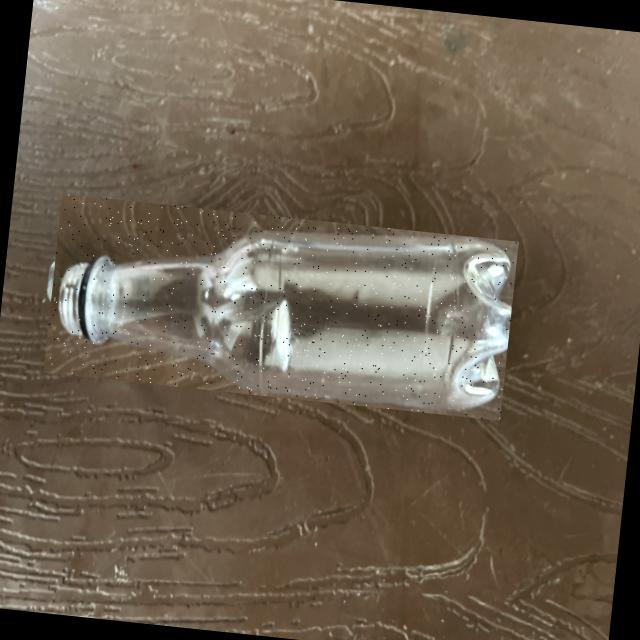PET_With_Cap: (42, 193, 517, 420)
